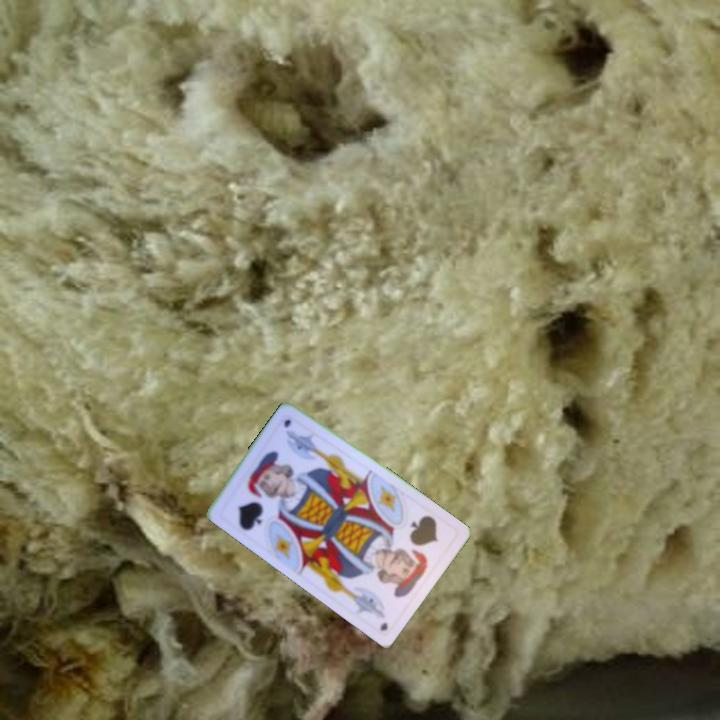s_j.png: (215, 459, 299, 545), (375, 500, 459, 586)
